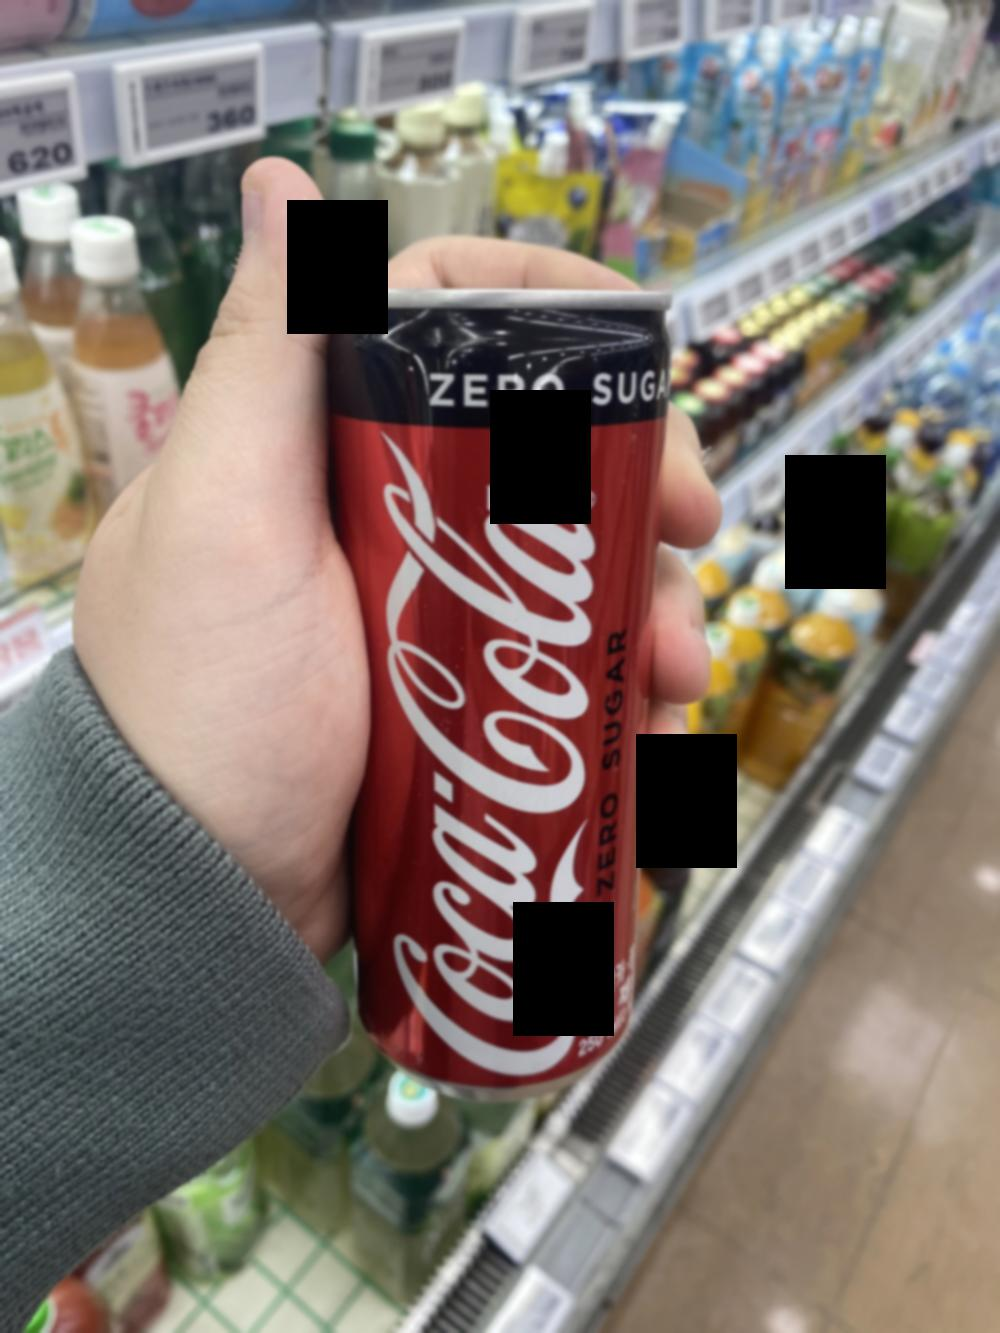cocacola_zero: (308, 284, 678, 1086)
